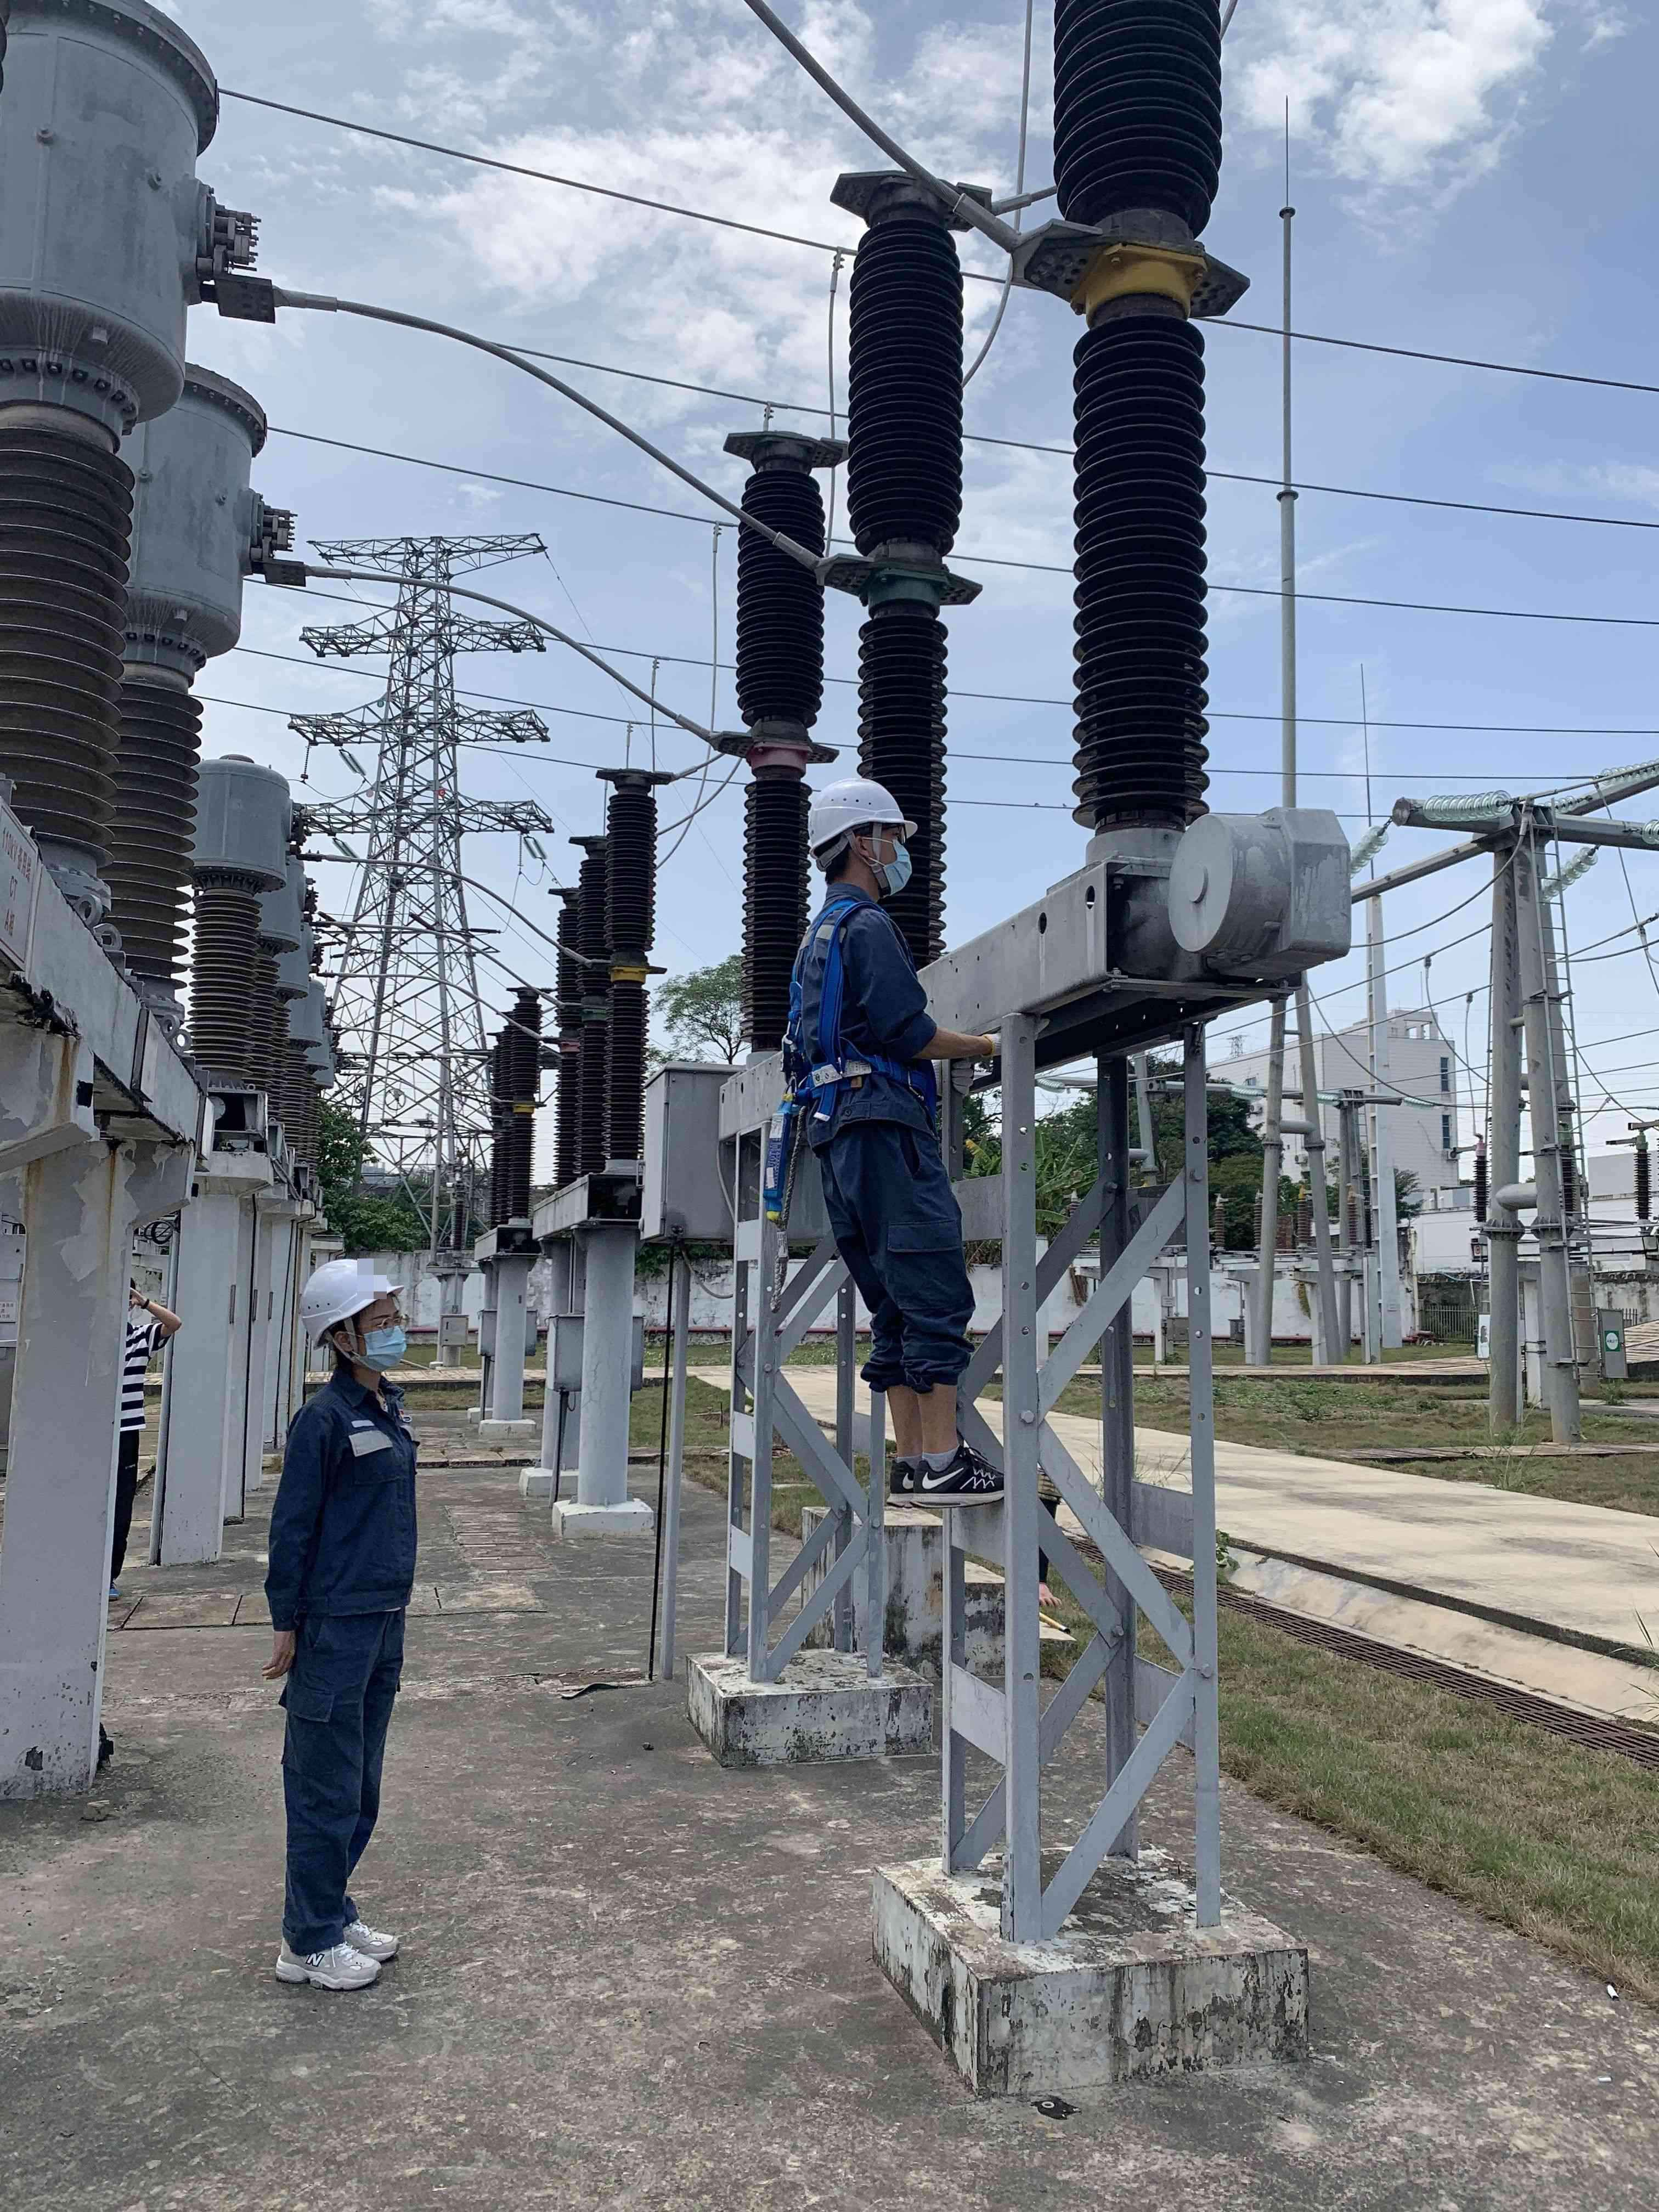downsuit: (803, 1127, 986, 1390), (270, 1644, 413, 1942)
upsuit: (253, 1383, 443, 1627), (769, 885, 964, 1108)
wrongbottom: (861, 1336, 978, 1467)
wrongtop: (908, 1015, 999, 1066)
